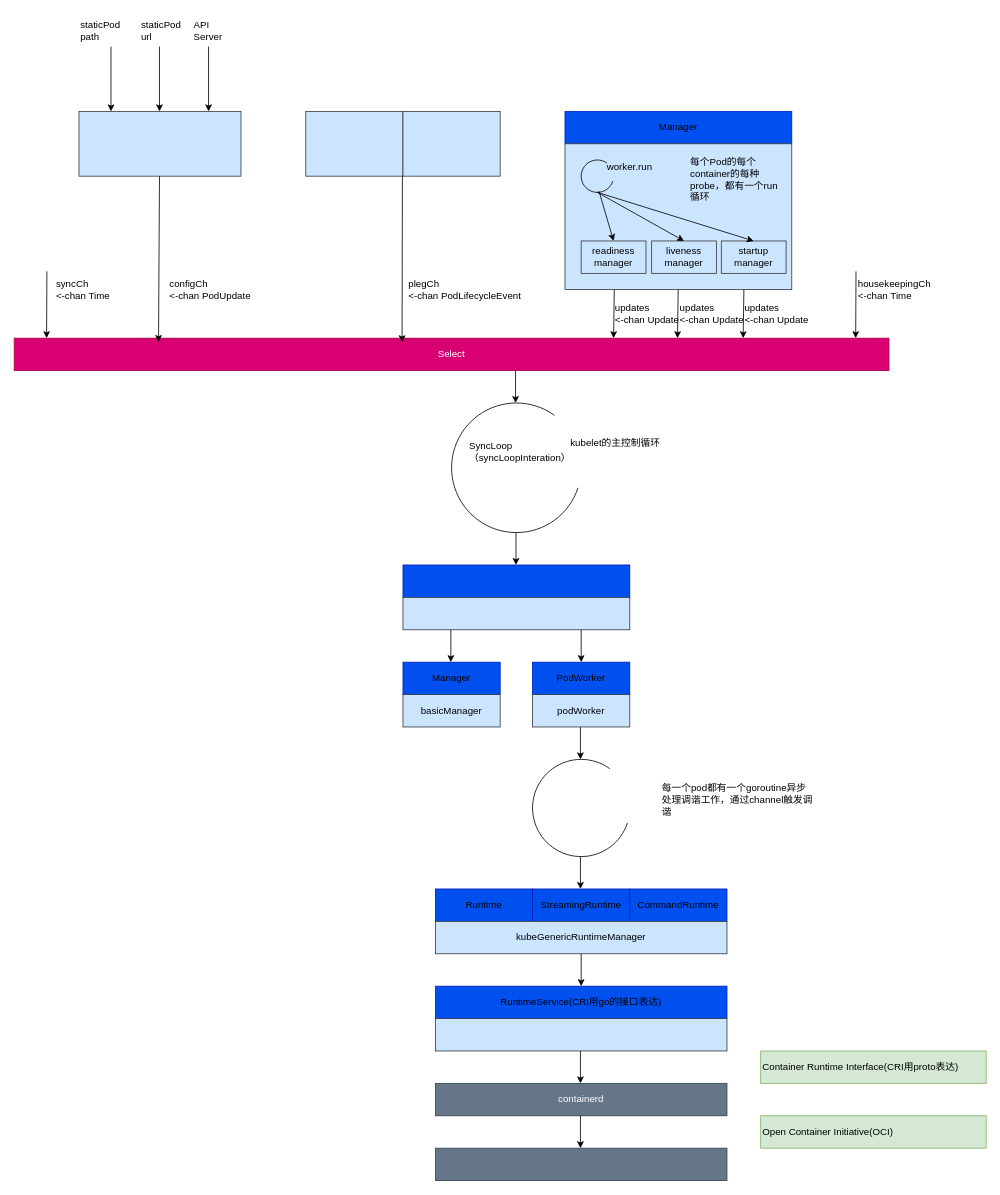
Image size: 1000x1195. Some labels were removed from this diagram. Here are the shapes that lost their labels. From the top down, the centre of each, then its label:
[159,143]: PodConfig (PodStorage.Merge)
[354,143]: GenericPLEG
[451,143]: EventedPLEG
[516,580]: SyncHandler
[516,613]: kubelet
[581,808]: podWorkerLoop
[581,1034]: remoteRuntimeService
[581,1164]: runc
